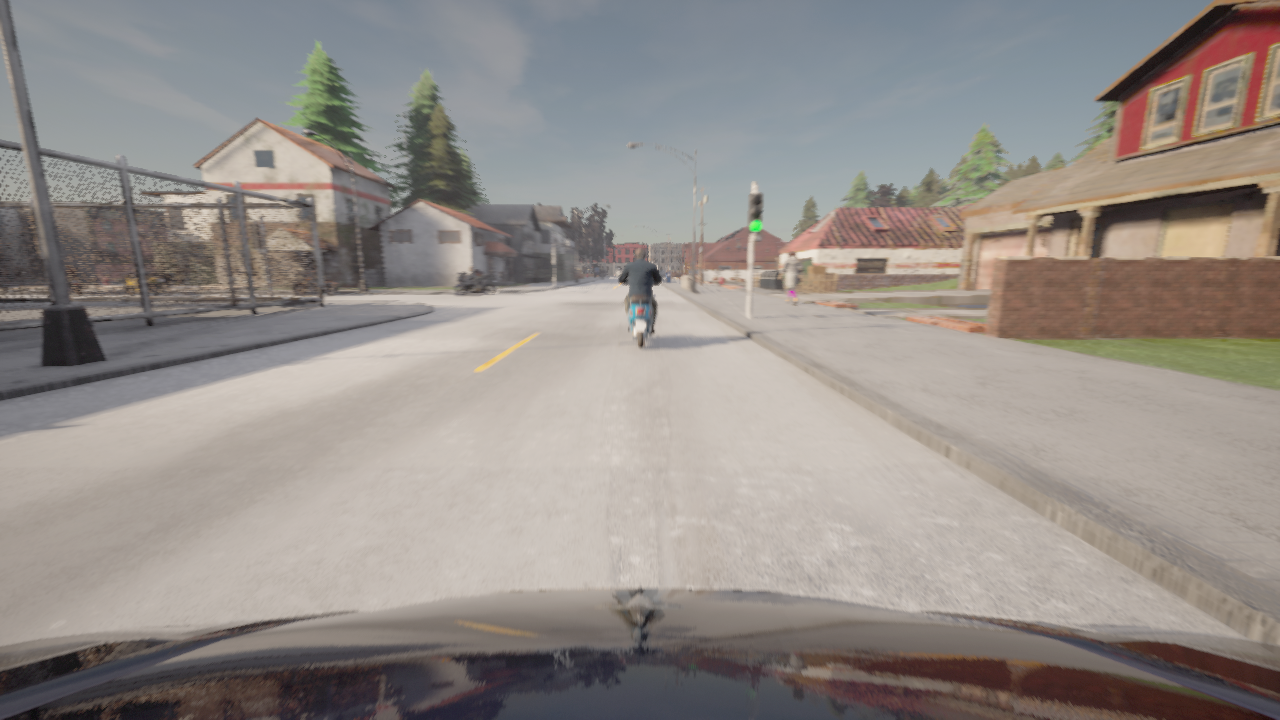cyclist: (0, 588, 1279, 719), (616, 270, 664, 347), (455, 272, 496, 295), (292, 274, 337, 294), (122, 273, 163, 294), (67, 278, 85, 294)
pedestrian: (779, 251, 802, 304), (695, 274, 698, 282)
